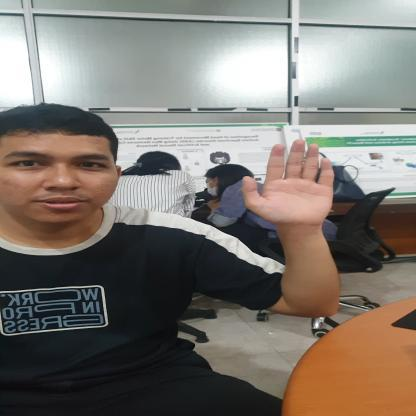Halo: (238, 137, 347, 224)
